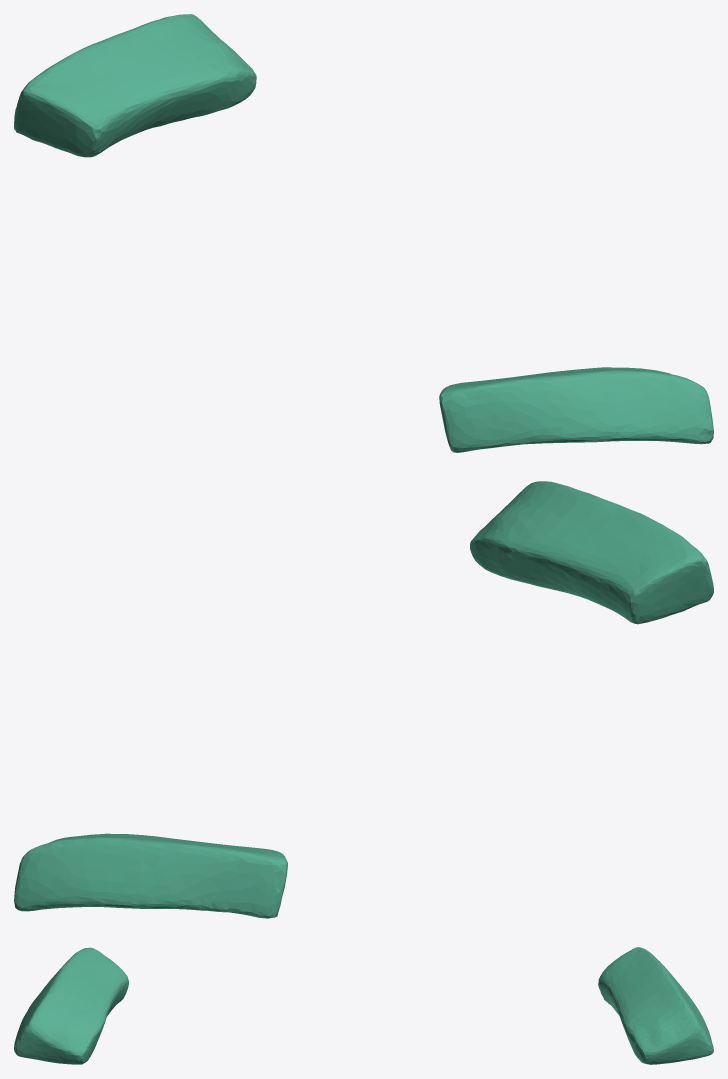
3 renders of one model, top to bottom at view 1: azimuth 30°, elevation 25°; view 2: azimuth 150°, elevation 25°; view 3: azimuth 270°, elevation 25°, orthographic. The views are drawn at different scales.
Visible parts, largest first — view 1: 111.obj; view 2: 111.obj; view 3: 111.obj.
Boxes of the visible parts, x1,y1,x2,y2 form: 111.obj: (14, 14, 713, 452); 111.obj: (14, 481, 713, 918); 111.obj: (14, 947, 713, 1064).
Size of the model in its own units: 2611 by 814 by 9929.
